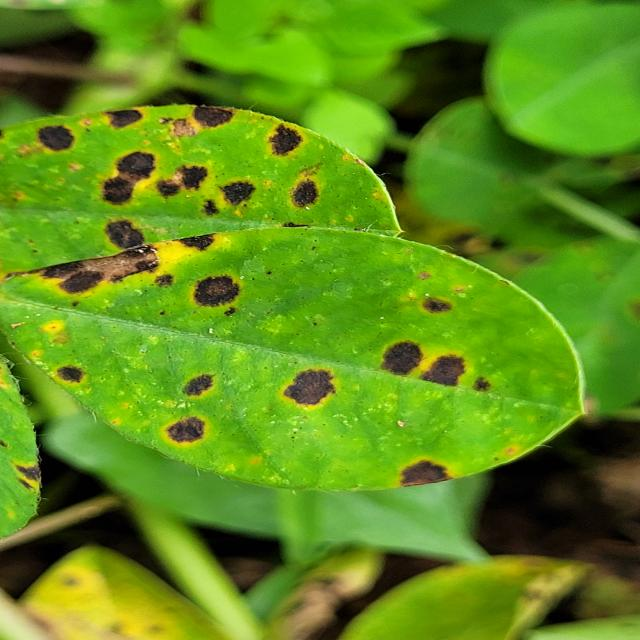Ground nut_tikka leaf spot: (1, 225, 592, 490), (0, 100, 406, 286)
